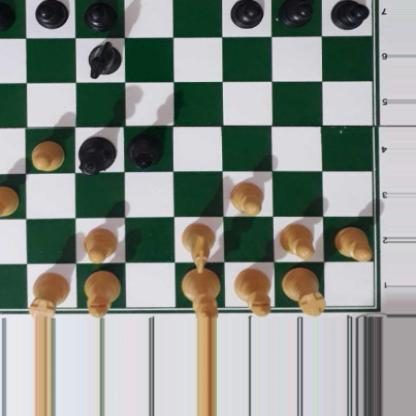black-bishop: (125, 130, 163, 168)
black-knight: (86, 40, 120, 76)
black-pawn: (330, 0, 367, 30), (84, 0, 116, 31), (34, 0, 66, 29), (229, 0, 263, 27), (280, 0, 313, 26), (0, 0, 13, 29)
black-queen: (76, 136, 115, 174)
white-bishop: (82, 268, 123, 319), (232, 268, 270, 315)
white-king: (181, 266, 222, 319)
white-knight: (181, 222, 217, 275)
white-pawn: (278, 221, 317, 258), (333, 224, 372, 259), (83, 226, 118, 263), (28, 137, 66, 171), (227, 180, 263, 215), (0, 184, 19, 218)
white-rook: (282, 270, 327, 316), (29, 270, 68, 319)
